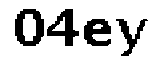0: (12, 3, 45, 49)
4: (44, 3, 82, 49)
e: (82, 12, 114, 51)
y: (112, 14, 153, 60)
